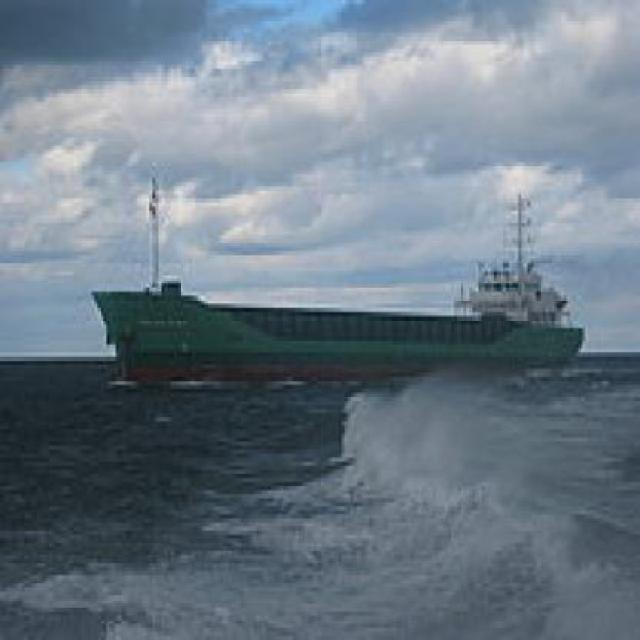container: (80, 159, 593, 394)
